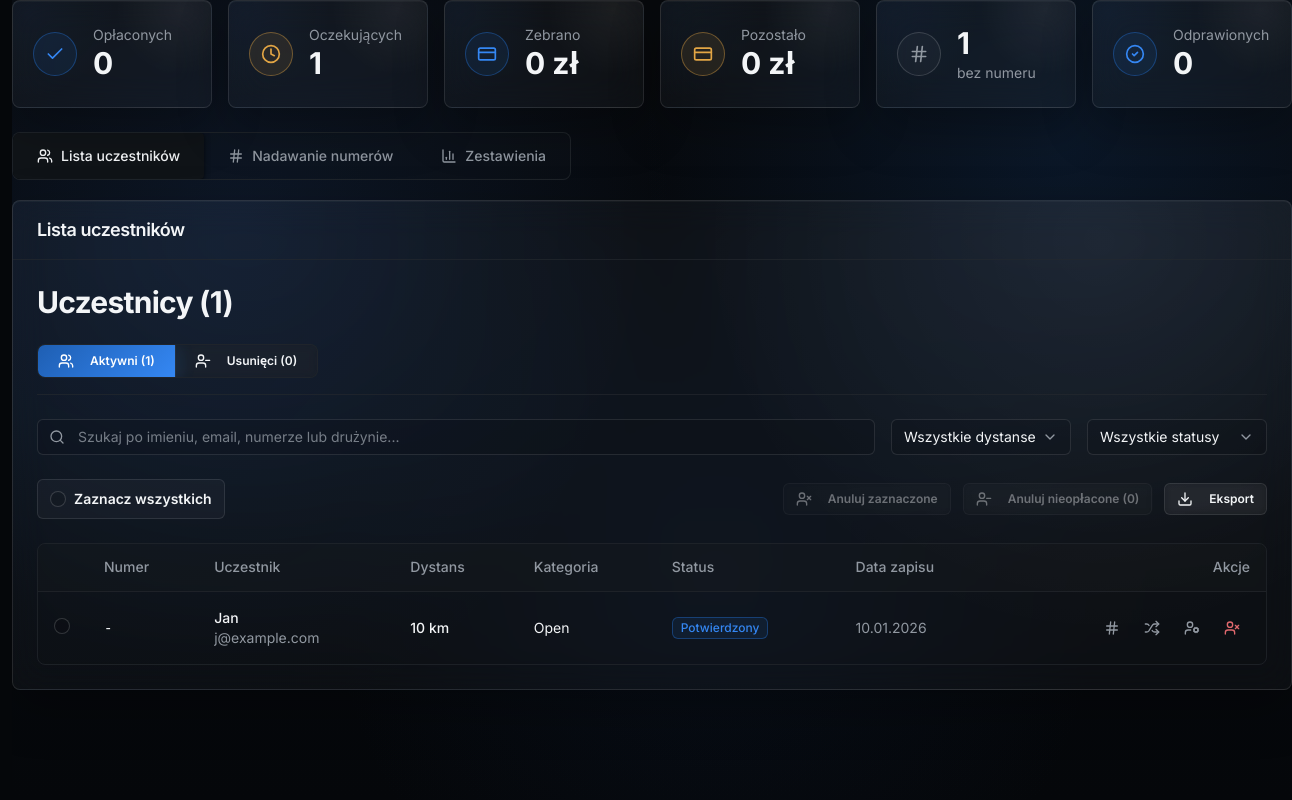
ParticipantsTab start-list export menu › offers CSV, XLSX and XML start-list formats
Click the button "Eksport". click: (1216, 498)
box: top-left (1164, 482), bottom-right (1267, 514)
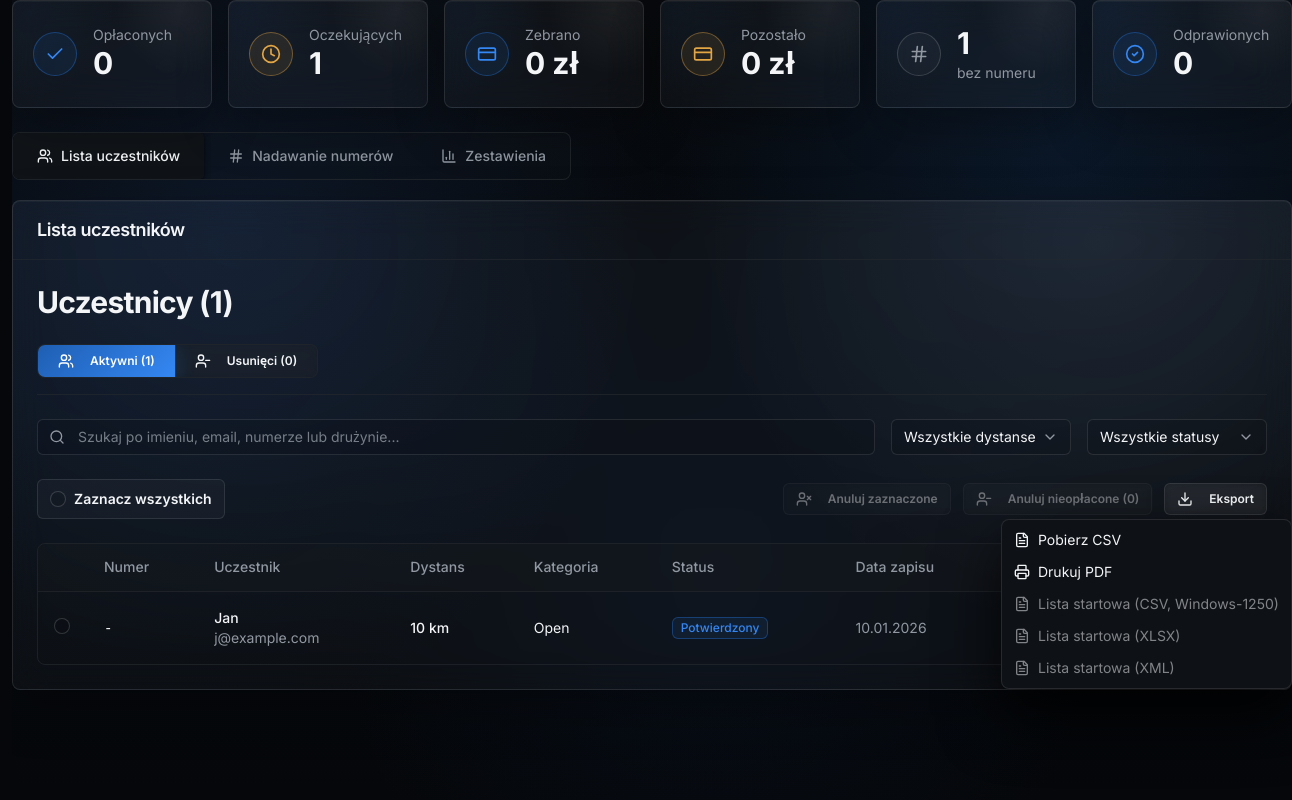
Now the menu item "Lista startowa (CSV, Windows-1250)" is shown, box top-left (1014, 595), bottom-right (1279, 612)
Now the menu item "Lista startowa (XLSX)" is shown, box top-left (1014, 627), bottom-right (1180, 644)
Now the menu item "Lista startowa (XML)" is shown, box top-left (1014, 659), bottom-right (1175, 676)
